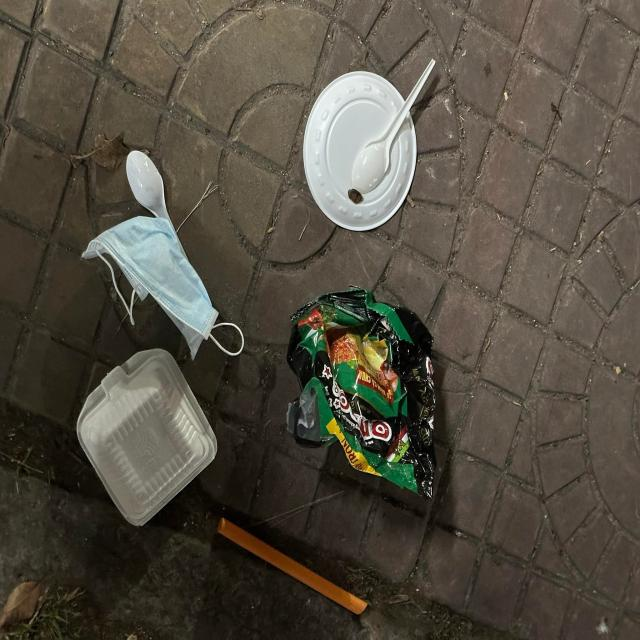drinking straw: (215, 522, 370, 618)
foam box: (75, 349, 216, 527)
mask: (82, 218, 242, 364)
plastic utensil: (303, 58, 438, 235), (127, 153, 212, 314)
snack package: (288, 288, 438, 507)
